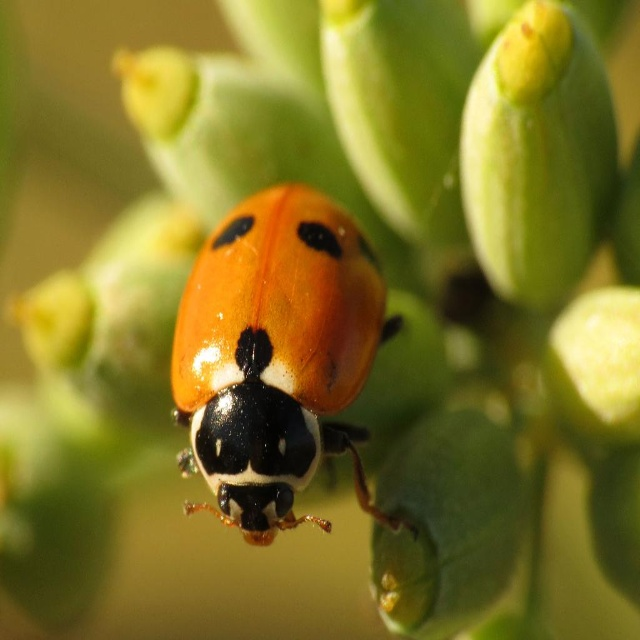Ladybug: (169, 183, 417, 547)
